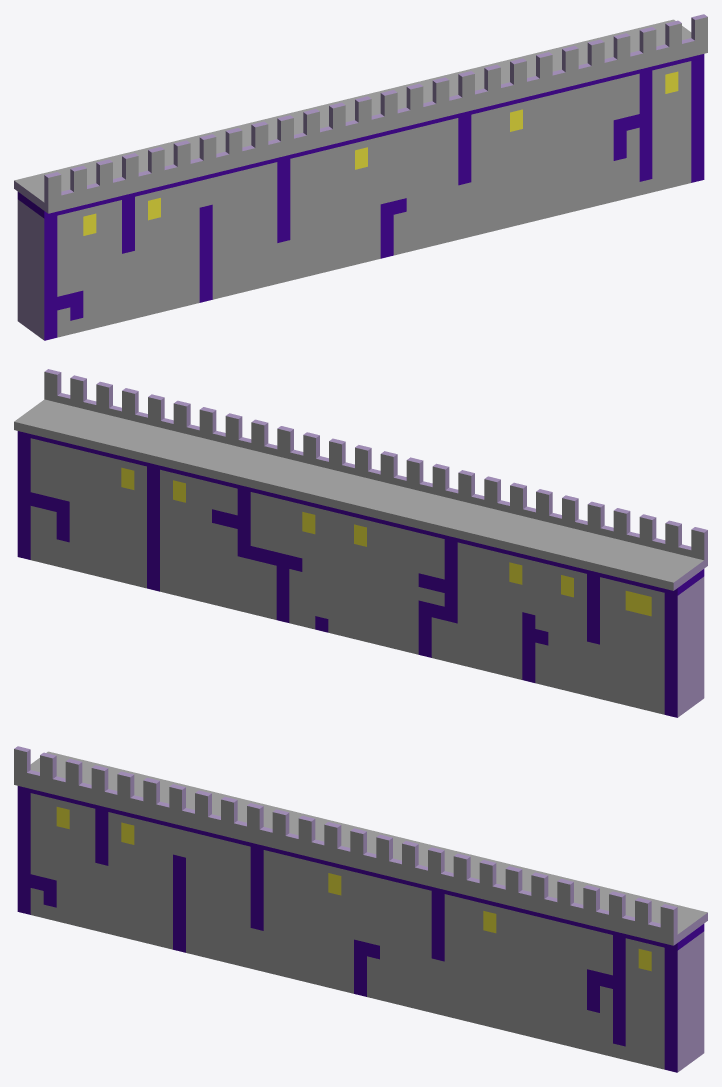
File: F_WALL.fbx
3 views of the same model, one above another, from view 1: azimuth 30°, elevation 25°; view 2: azimuth 150°, elevation 25°; view 3: azimuth 330°, elevation 25° (orthographic).
Parts seen in each view (by area): view 1: F_WALL; view 2: F_WALL; view 3: F_WALL.
Part boxes in pixels (x1,y1,x2,y2): F_WALL: (14,14,707,340); F_WALL: (14,369,707,717); F_WALL: (14,746,707,1072).
Bounding box in the file's own units: 10000 × 2400 × 900.
